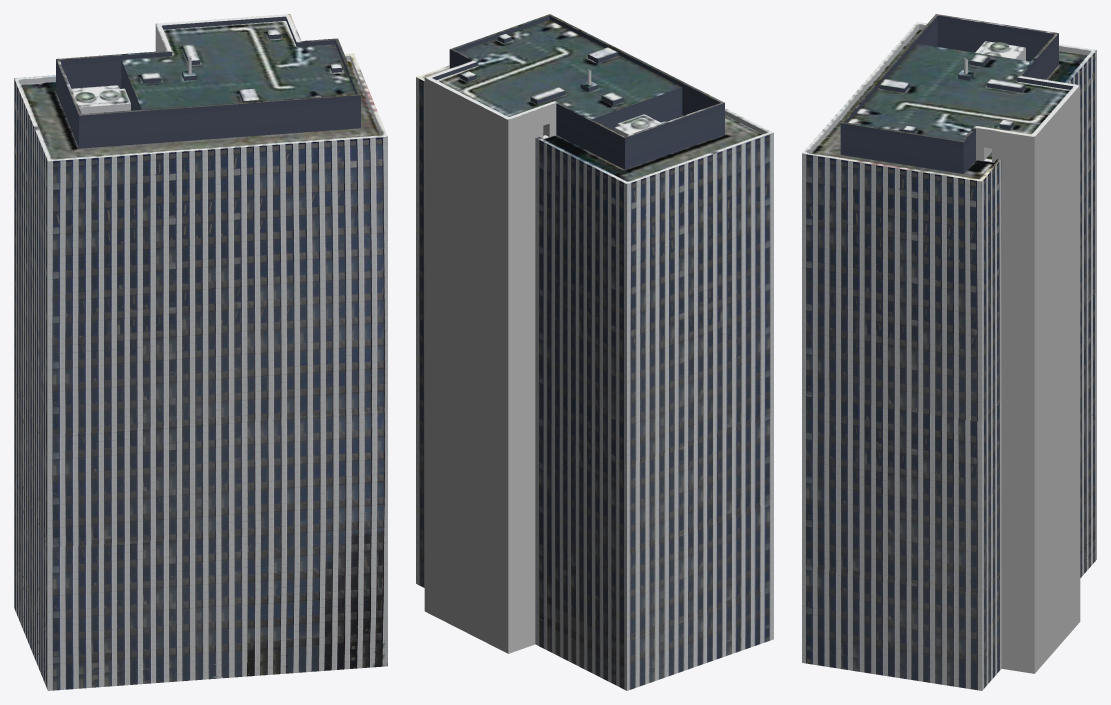
Rendered from Tour-IBM.dae.
3 renders of one model, left to right at view 1: azimuth 30°, elevation 25°; view 2: azimuth 150°, elevation 25°; view 3: azimuth 270°, elevation 25°, orthographic. The views are drawn at different scales.
Visible parts, largest first — view 1: SketchUp (×8); view 2: SketchUp (×8); view 3: SketchUp (×9).
Part boxes in pixels (x1,y1,x2,y2): SketchUp (×8): (14, 14, 387, 690); SketchUp (×8): (416, 14, 773, 690); SketchUp (×9): (802, 14, 1096, 690).
Bounding box in the file's own units: 1908 × 1490 × 3072.
